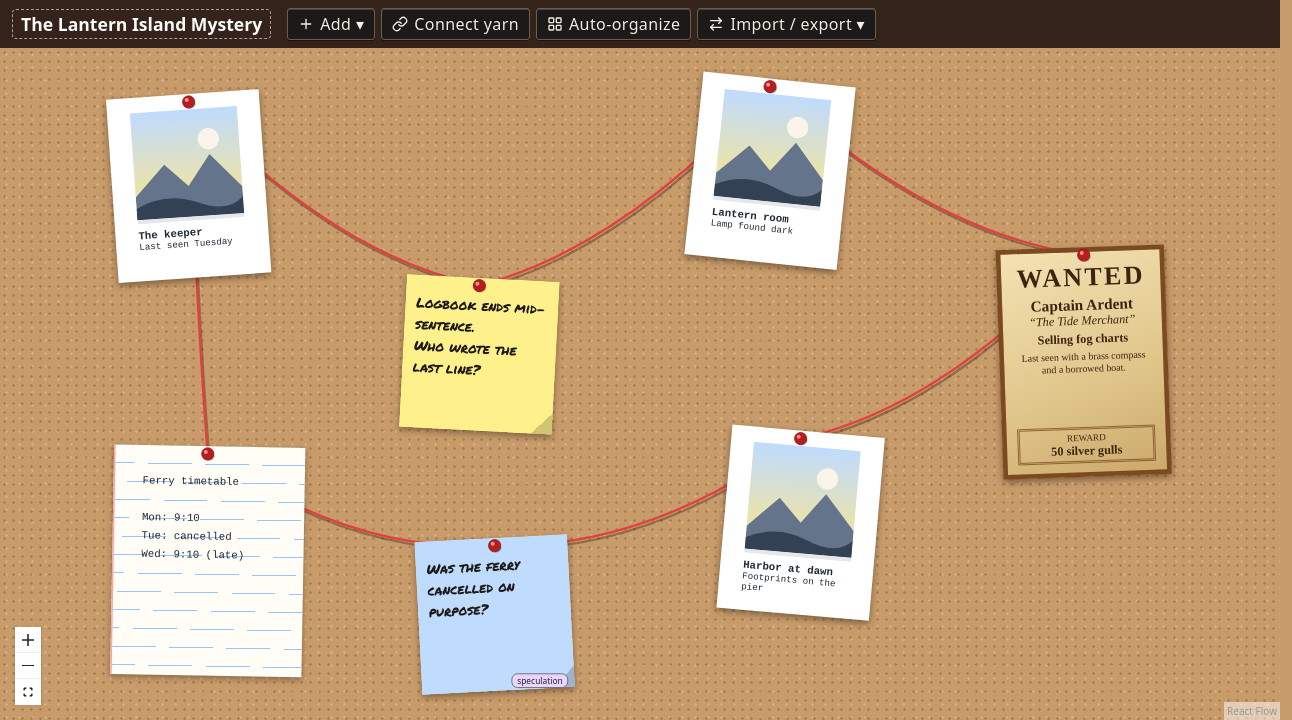
Test: focus, notices and keyboard edge cases › empty title on blur shows a visible message and keeps the title
Step 1. Click the button with aria-label "Board title" → (142, 24), box [12, 9, 271, 39]
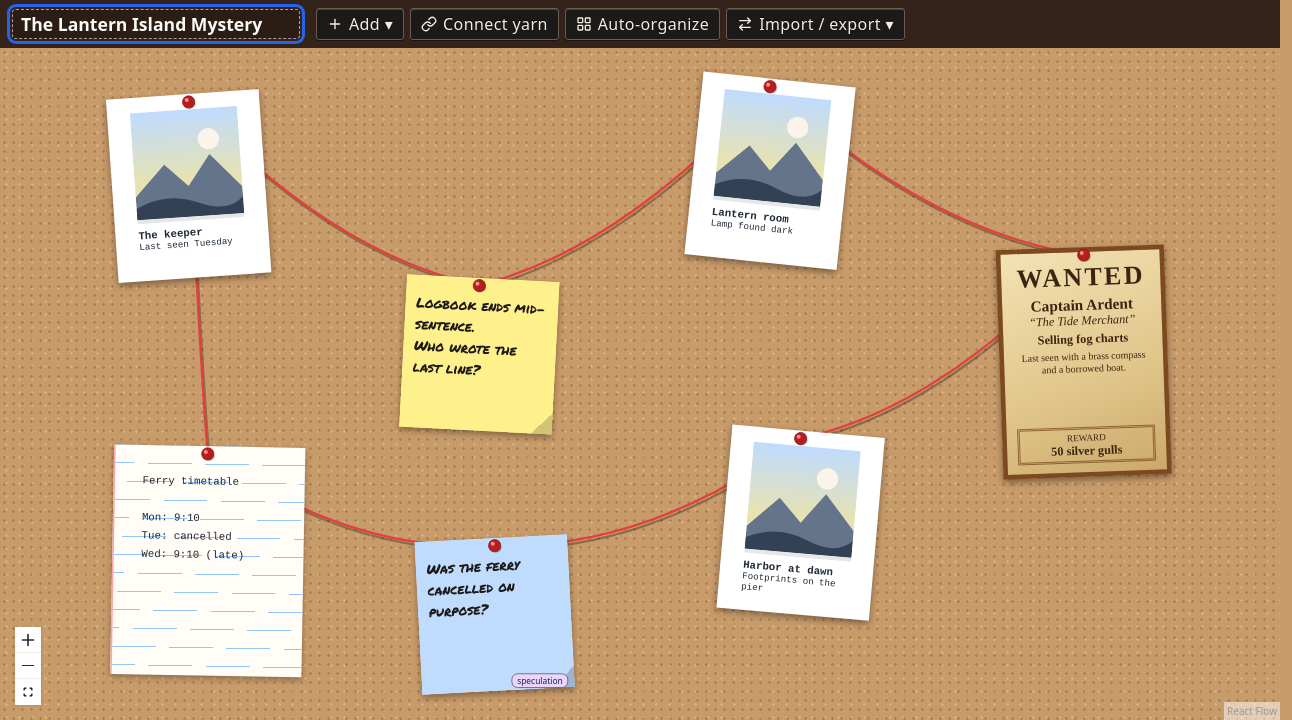
Step 2. Clear the field named "Board title" → (156, 24), box [12, 9, 300, 39]
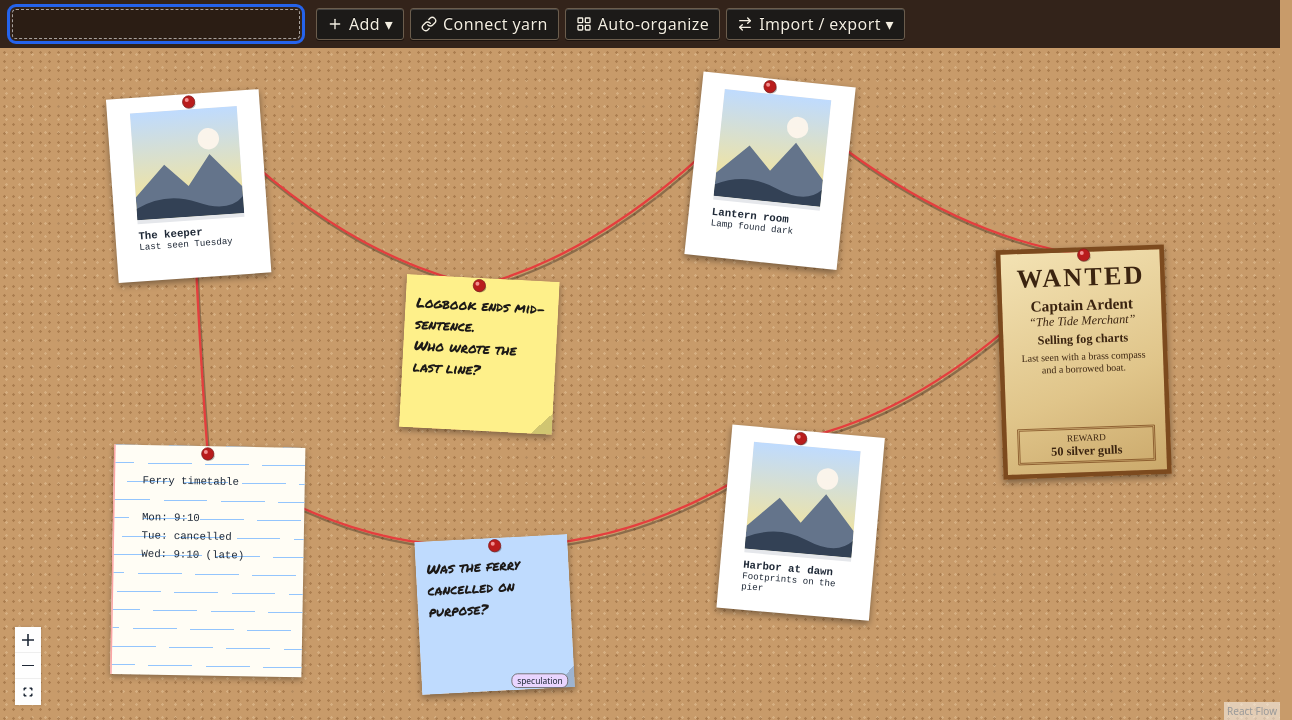
Step 3. Press Tab
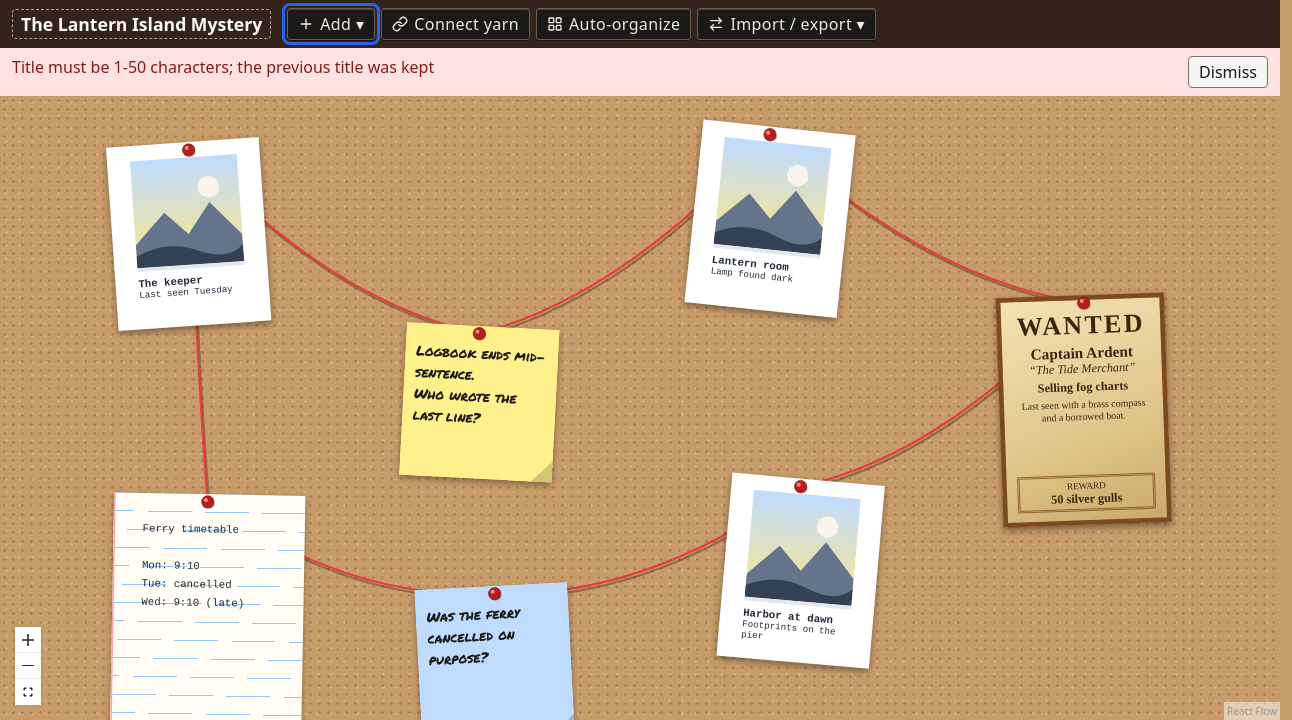
Now the message shows "Title must be", box [12, 56, 434, 78]
Now the button "The Lantern Island Mystery" is shown, box [12, 9, 271, 39]
